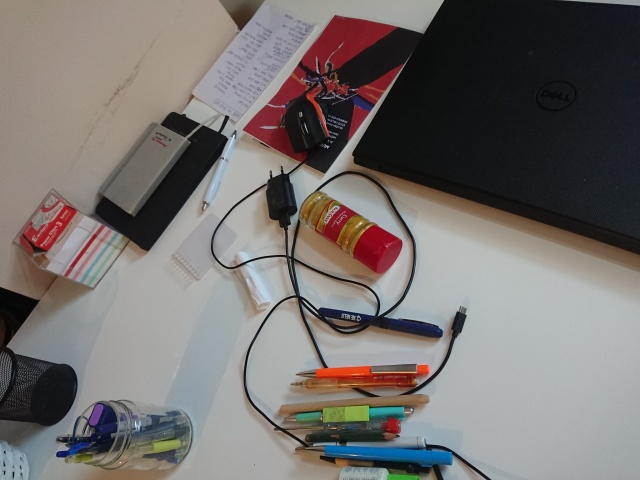Kotanyi Curry Spices Mix 70g: (295, 188, 405, 277)
